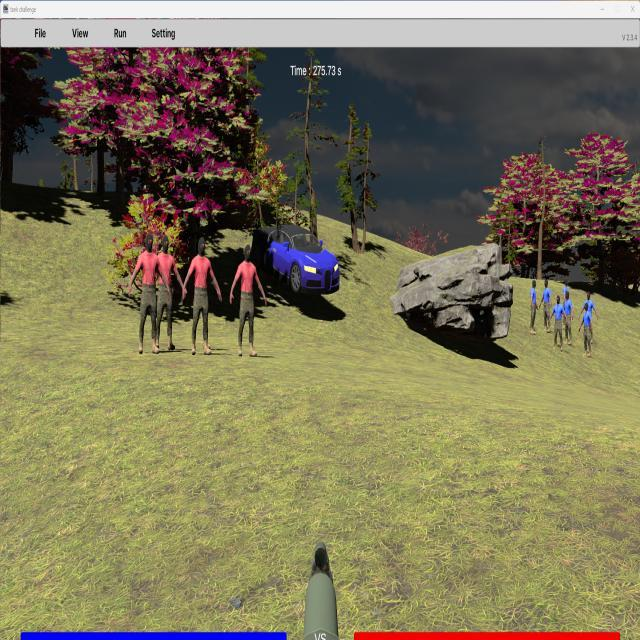Human: (129, 232, 168, 353), (183, 235, 222, 355), (230, 244, 268, 358), (150, 234, 187, 351), (550, 295, 567, 349), (579, 303, 593, 358), (539, 279, 552, 334), (562, 292, 574, 345), (529, 279, 539, 336)
car: (250, 225, 340, 298)
